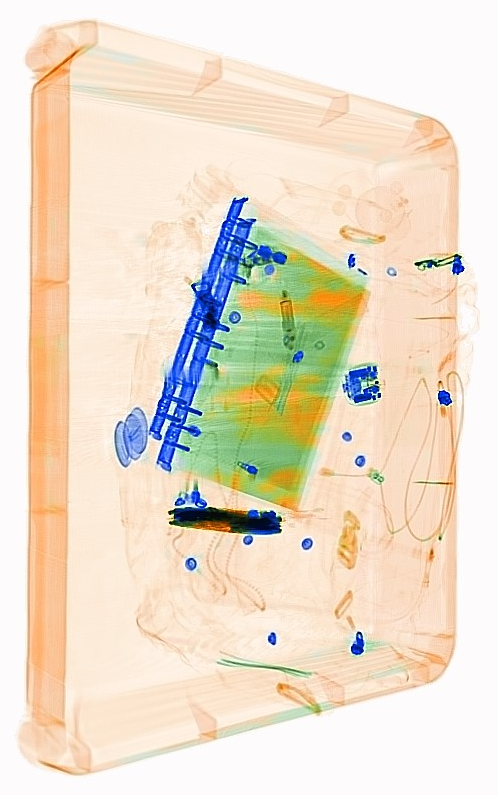FeLighter: (160, 499, 321, 539)
